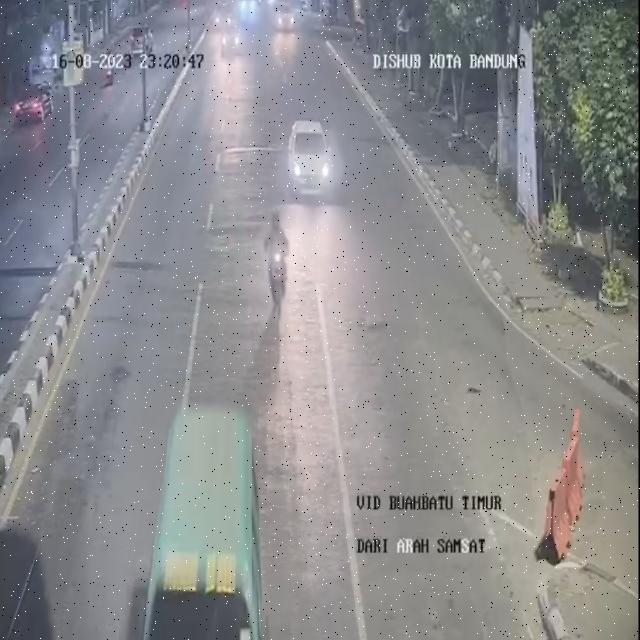cars: (146, 395, 252, 640), (282, 113, 333, 204), (219, 18, 243, 60)
motorcycle: (261, 211, 296, 324)
